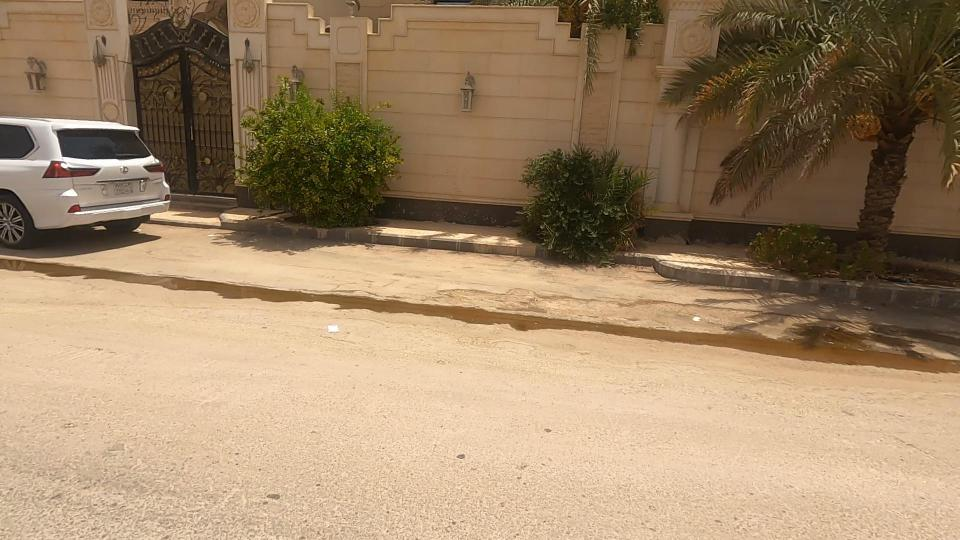GARBAGE: (295, 307, 357, 358)
